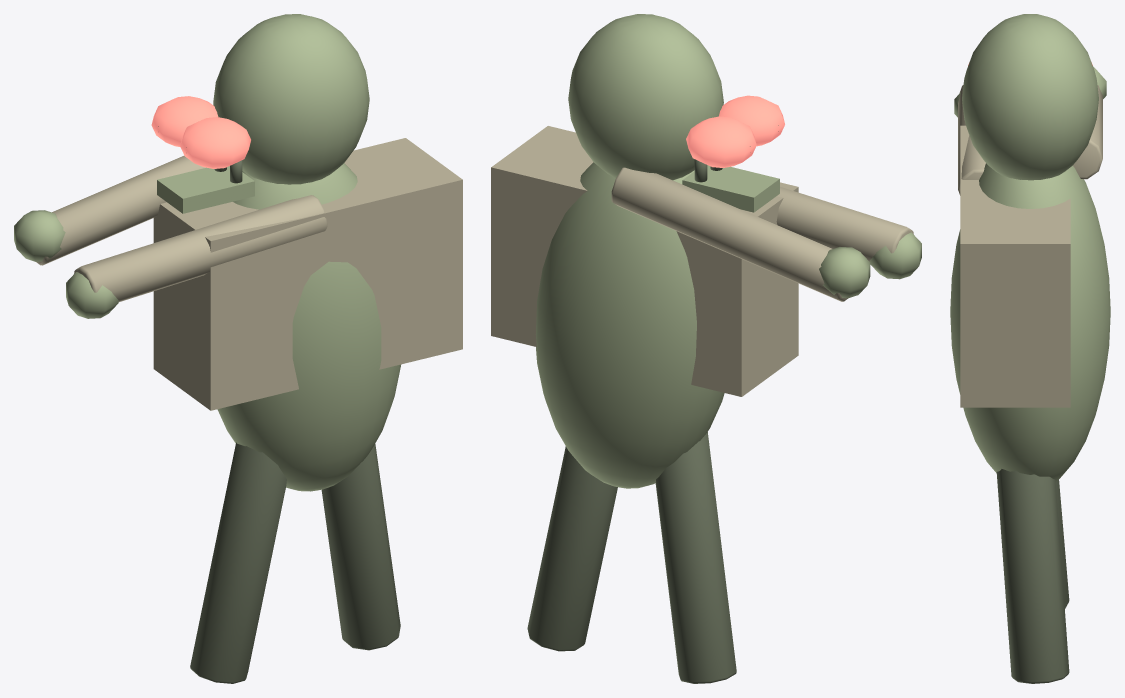
File: walker.glb
The picture shows the model from 3 angles, left to right: view 1: azimuth 30°, elevation 25°; view 2: azimuth 150°, elevation 25°; view 3: azimuth 270°, elevation 25°; orthographic projection. The views are drawn at different scales.
Visible parts, largest first — view 1: chest, torso, head, leg, leg.001, arm.001, arm, mouth_band, eye.001, hand, eye, hand.001; view 2: torso, chest, head, leg, leg.001, arm, arm.001, eye, mouth_band, hand, eye.001, hand.001; view 3: chest, torso, head, leg.001, arm, arm.001, leg.
Boxes of the visible parts, bbox=[...] form: chest: bbox=[153, 138, 462, 410]; torso: bbox=[217, 163, 401, 491]; head: bbox=[213, 14, 369, 184]; leg: bbox=[190, 442, 286, 683]; leg.001: bbox=[321, 444, 400, 650]; arm.001: bbox=[74, 195, 327, 301]; arm: bbox=[36, 155, 205, 265]; mouth_band: bbox=[157, 166, 254, 213]; eye.001: bbox=[180, 117, 250, 168]; hand: bbox=[14, 210, 65, 261]; eye: bbox=[151, 96, 218, 147]; hand.001: bbox=[66, 272, 118, 318]; torso: bbox=[535, 162, 724, 488]; chest: bbox=[491, 126, 798, 396]; head: bbox=[568, 14, 723, 180]; leg: bbox=[655, 432, 736, 683]; leg.001: bbox=[527, 446, 617, 651]; arm: bbox=[611, 167, 847, 301]; arm.001: bbox=[776, 187, 913, 261]; eye: bbox=[686, 116, 756, 167]; mouth_band: bbox=[682, 165, 779, 212]; hand: bbox=[819, 247, 870, 298]; eye.001: bbox=[718, 95, 784, 146]; hand.001: bbox=[869, 232, 921, 279]; chest: bbox=[960, 125, 1070, 407]; torso: bbox=[950, 163, 1110, 481]; head: bbox=[962, 14, 1098, 180]; leg.001: bbox=[996, 469, 1069, 683]; arm: bbox=[1073, 85, 1102, 179]; arm.001: bbox=[958, 85, 985, 195]; leg: bbox=[1055, 479, 1069, 608].
Size of the model in its own units: 0.8523 by 1.37 by 0.3204.
